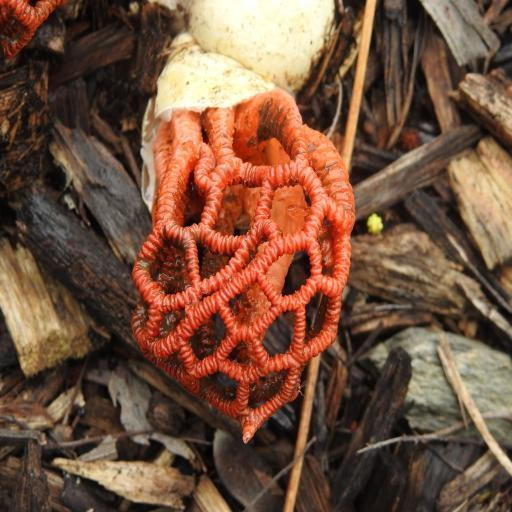mushroom: (121, 41, 366, 451)
